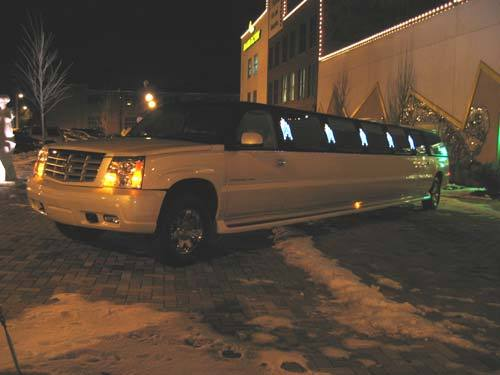car: (22, 89, 457, 270)
